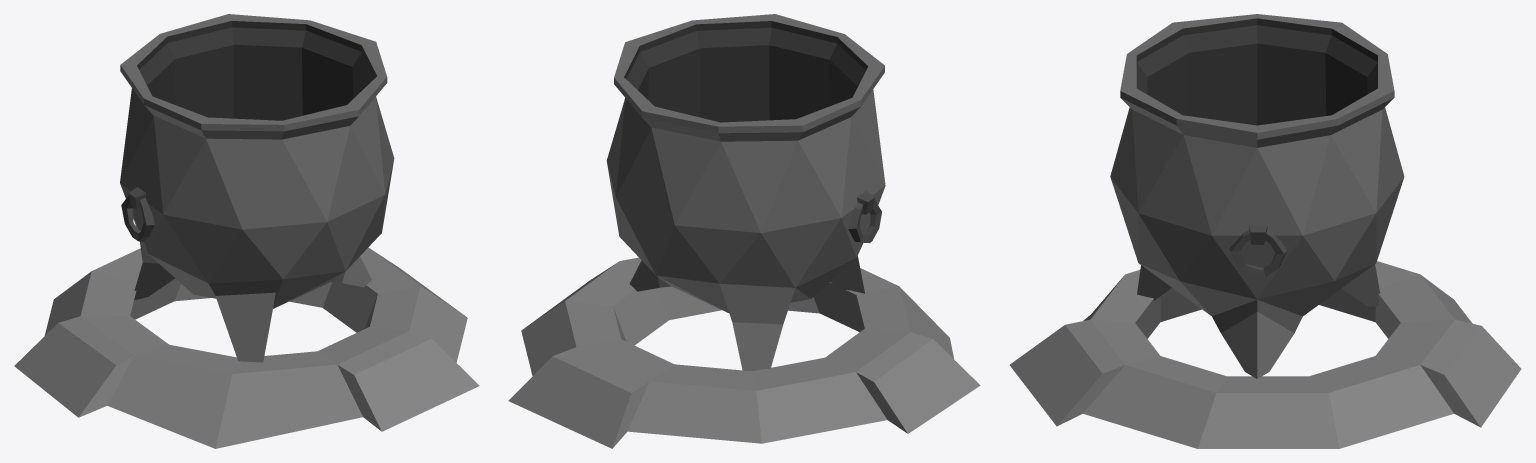
Rendered from CAULDRON.fbx.
3 views of the same model, side by side, from view 1: azimuth 30°, elevation 25°; view 2: azimuth 150°, elevation 25°; view 3: azimuth 270°, elevation 25° (orthographic). The views are drawn at different scales.
Visible parts, largest first — view 1: Icosphere; view 2: Icosphere; view 3: Icosphere.
Part boxes in pixels (x1=…): Icosphere: x1=14, y1=14, x2=479, y2=448; Icosphere: x1=508, y1=14, x2=980, y2=448; Icosphere: x1=1009, y1=14, x2=1521, y2=448.
Size of the model in its own units: 1.6 by 1.15 by 1.75.
